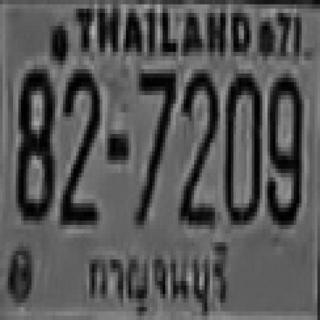N00: (223, 69, 260, 220)
N02: (178, 69, 218, 225), (59, 67, 98, 223), (59, 67, 98, 214)
N07: (134, 67, 173, 223)
N08: (13, 65, 52, 216)
N09: (266, 69, 300, 220)
P17: (78, 238, 238, 320)
